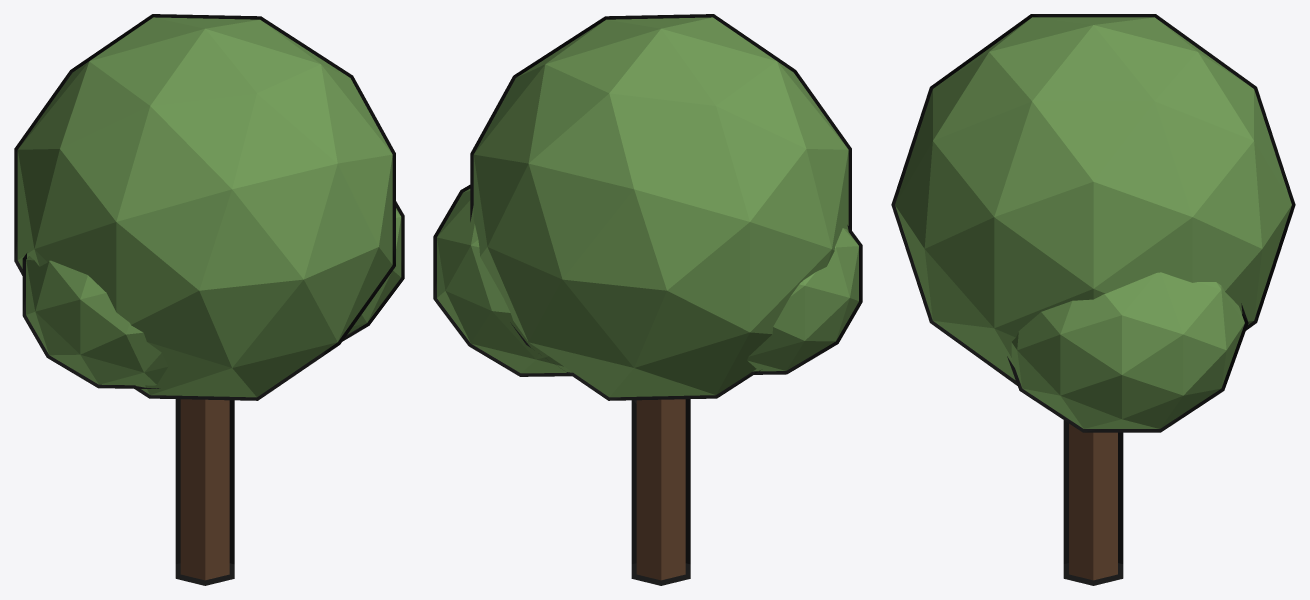
The model's file is Agac_yuvarlak_3.fbx.
3 views of the same model, side by side, from view 1: azimuth 30°, elevation 25°; view 2: azimuth 150°, elevation 25°; view 3: azimuth 270°, elevation 25° (orthographic).
Parts seen in each view (by area): view 1: Agac_yuvarlak_3; view 2: Agac_yuvarlak_3; view 3: Agac_yuvarlak_3.
Part boxes in pixels (box(x1,y1,x2,y2)): Agac_yuvarlak_3: box(14, 14, 404, 585); Agac_yuvarlak_3: box(433, 14, 862, 585); Agac_yuvarlak_3: box(891, 14, 1295, 585).
Bounding box in the file's own units: 2.37 × 3.2 × 2.14.
